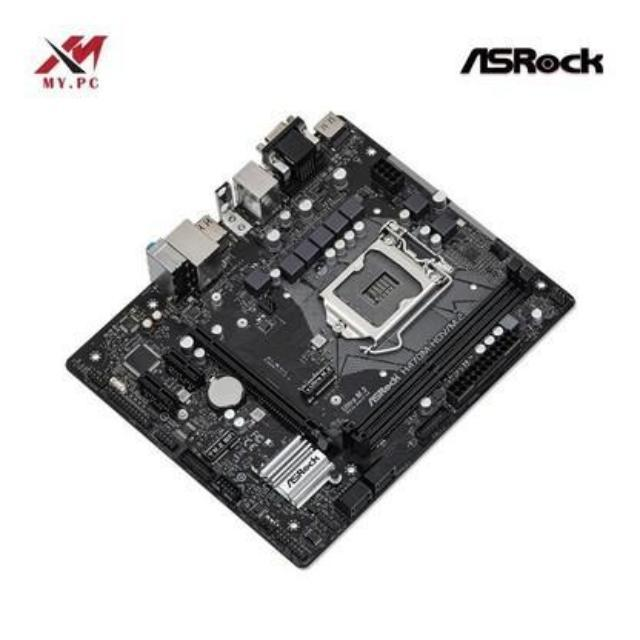Mainboard: (61, 100, 584, 571)
